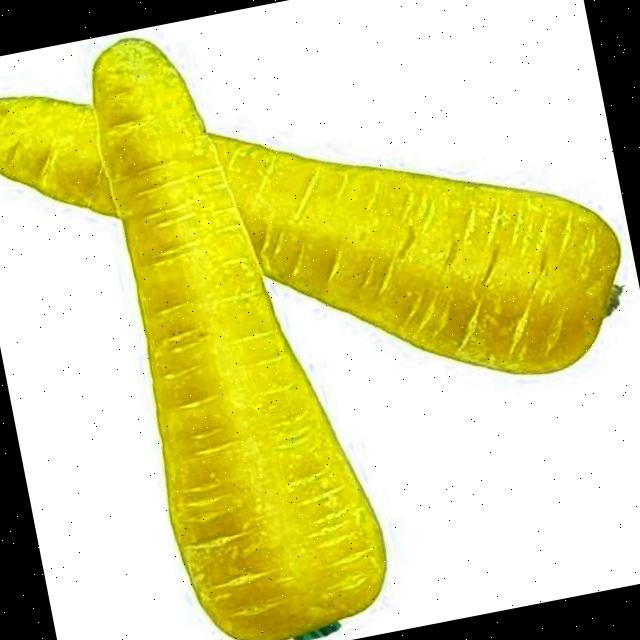carrot: (93, 41, 385, 640), (0, 98, 619, 373)
